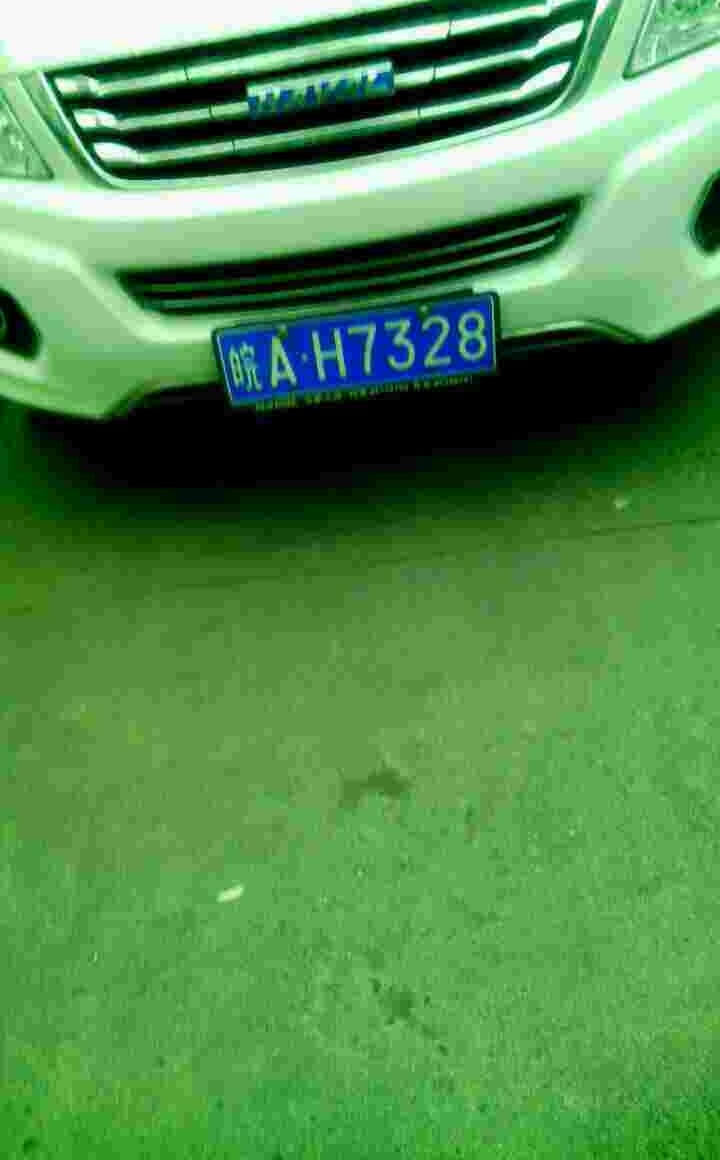license_plate: (210, 291, 499, 413)
